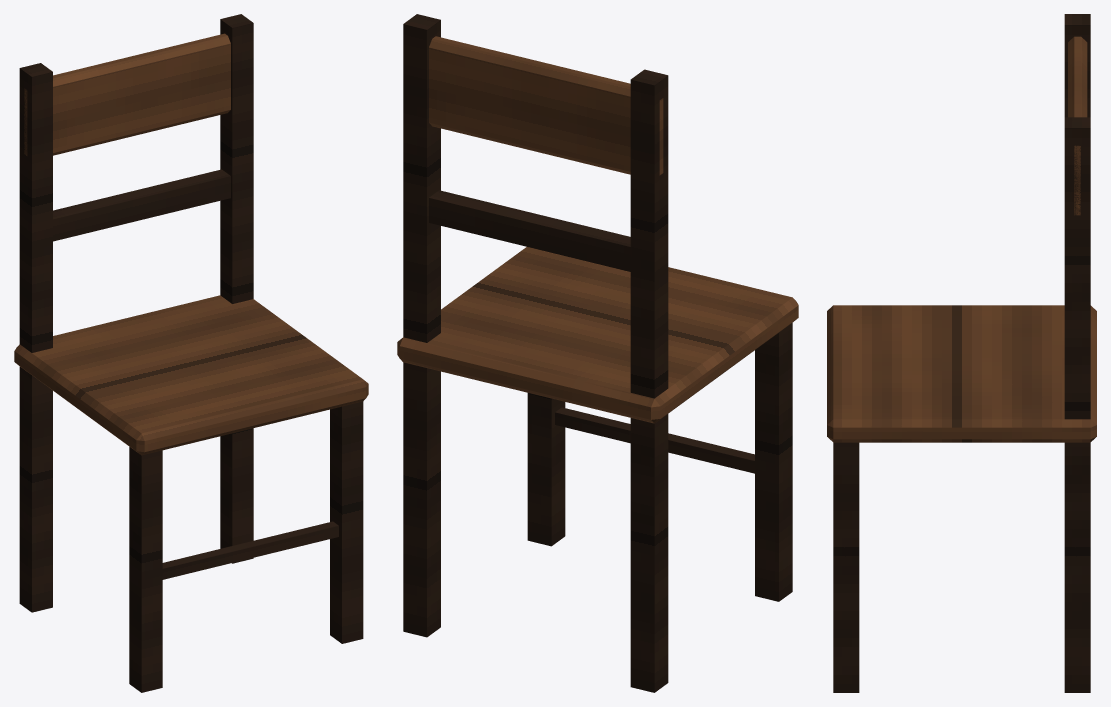
File: chair_wooden.glb
The picture shows the model from 3 angles, left to right: view 1: azimuth 30°, elevation 25°; view 2: azimuth 150°, elevation 25°; view 3: azimuth 270°, elevation 25°; orthographic projection. The views are drawn at different scales.
Visible parts, largest first — view 1: chair_wooden; view 2: chair_wooden; view 3: chair_wooden.
Boxes of the visible parts, bbox=[...] form: chair_wooden: bbox=[14, 14, 368, 692]; chair_wooden: bbox=[397, 14, 798, 692]; chair_wooden: bbox=[827, 14, 1096, 692].
Size of what is drawn, in the model's own units: 0.44 by 0.97 by 0.42.
Materials: 2 (2 with a texture image).
